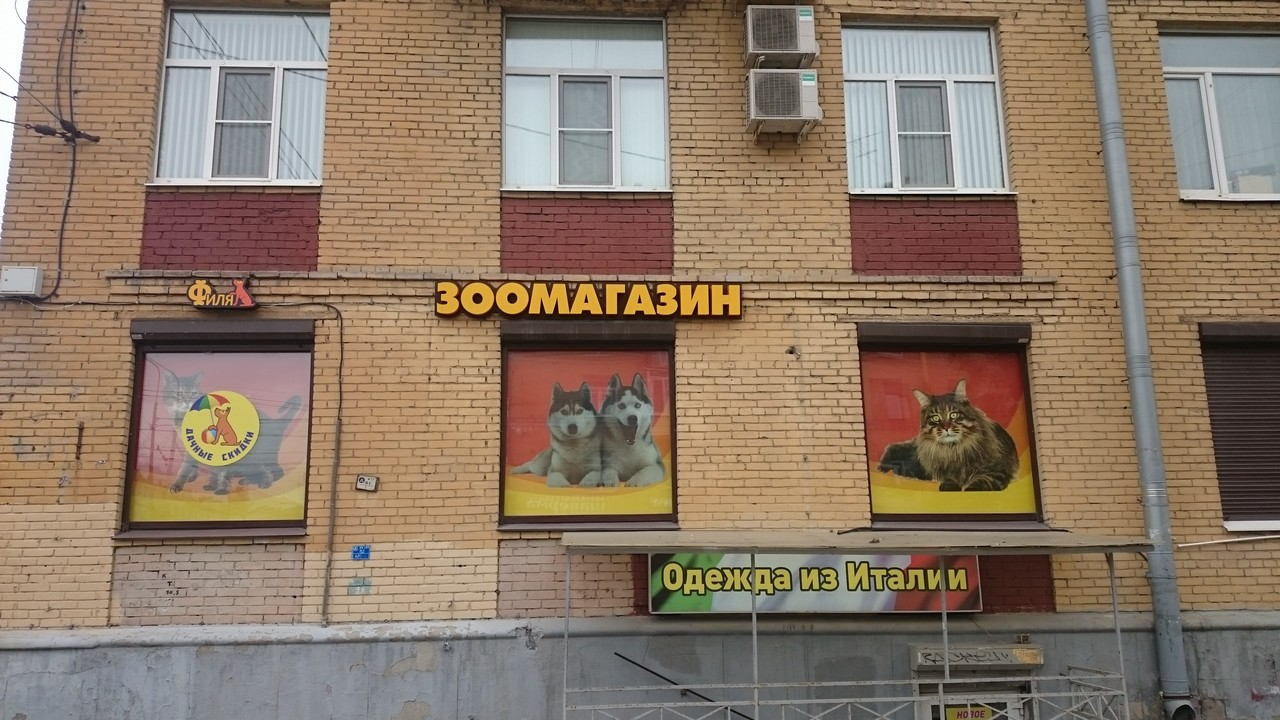signboard: (647, 549, 978, 613), (431, 274, 745, 326), (184, 274, 257, 311)
window: (858, 336, 1045, 522), (128, 344, 307, 522), (503, 348, 677, 522), (501, 12, 668, 193), (842, 18, 1008, 192), (162, 6, 322, 184), (1159, 26, 1278, 200)
